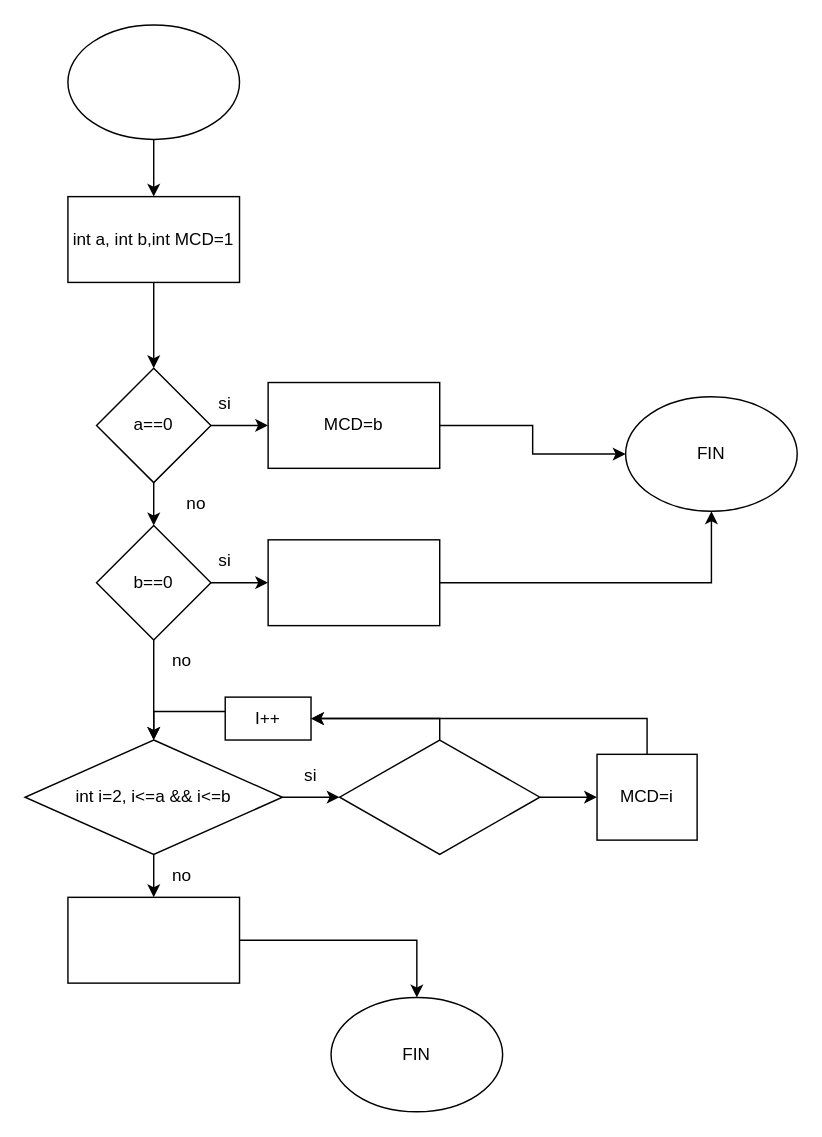
Some shapes in this 822 by 1137 pixel diagram are drawn without their labels. Here are the shapes that lost their labels. From the top down, the centre of each, then its label:
At (153,81): "INICIO 10".
At (353,582): "MCD=a".
At (439,796): "a%i==0 && b%i ==0".
At (153,939): "devuelve MCD".
